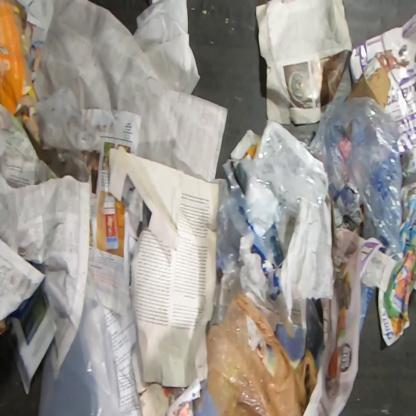cardboard: (348, 11, 415, 178), (347, 49, 409, 106), (0, 0, 26, 117)
soft_plastic: (216, 93, 404, 274), (206, 290, 320, 415), (37, 265, 122, 415)
